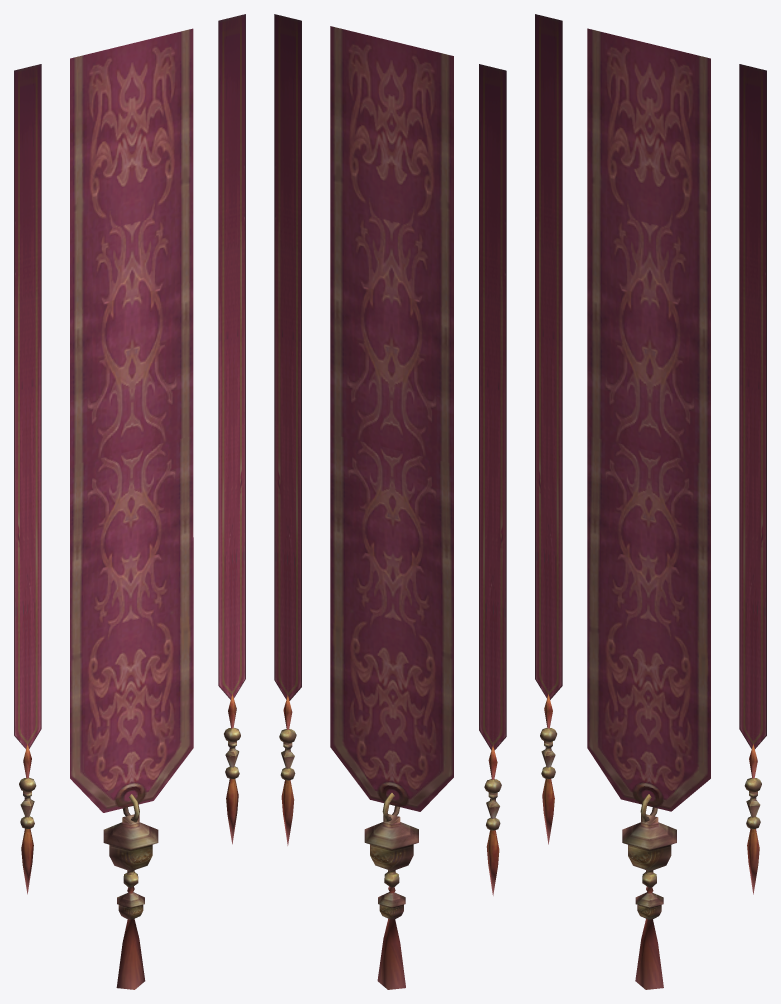
File: map30_qizi01.FBX
The picture shows the model from 3 angles, left to right: view 1: azimuth 30°, elevation 25°; view 2: azimuth 150°, elevation 25°; view 3: azimuth 330°, elevation 25°; orthographic projection.
Visible parts, largest first — view 1: map30_qizi01; view 2: map30_qizi01; view 3: map30_qizi01.
Part boxes in pixels (box(x1,y1,x2,y2)): map30_qizi01: box(14, 14, 245, 989); map30_qizi01: box(274, 14, 506, 989); map30_qizi01: box(535, 14, 766, 989).
Bounding box in the file's own units: 87.28 × 340 × 17.77.
